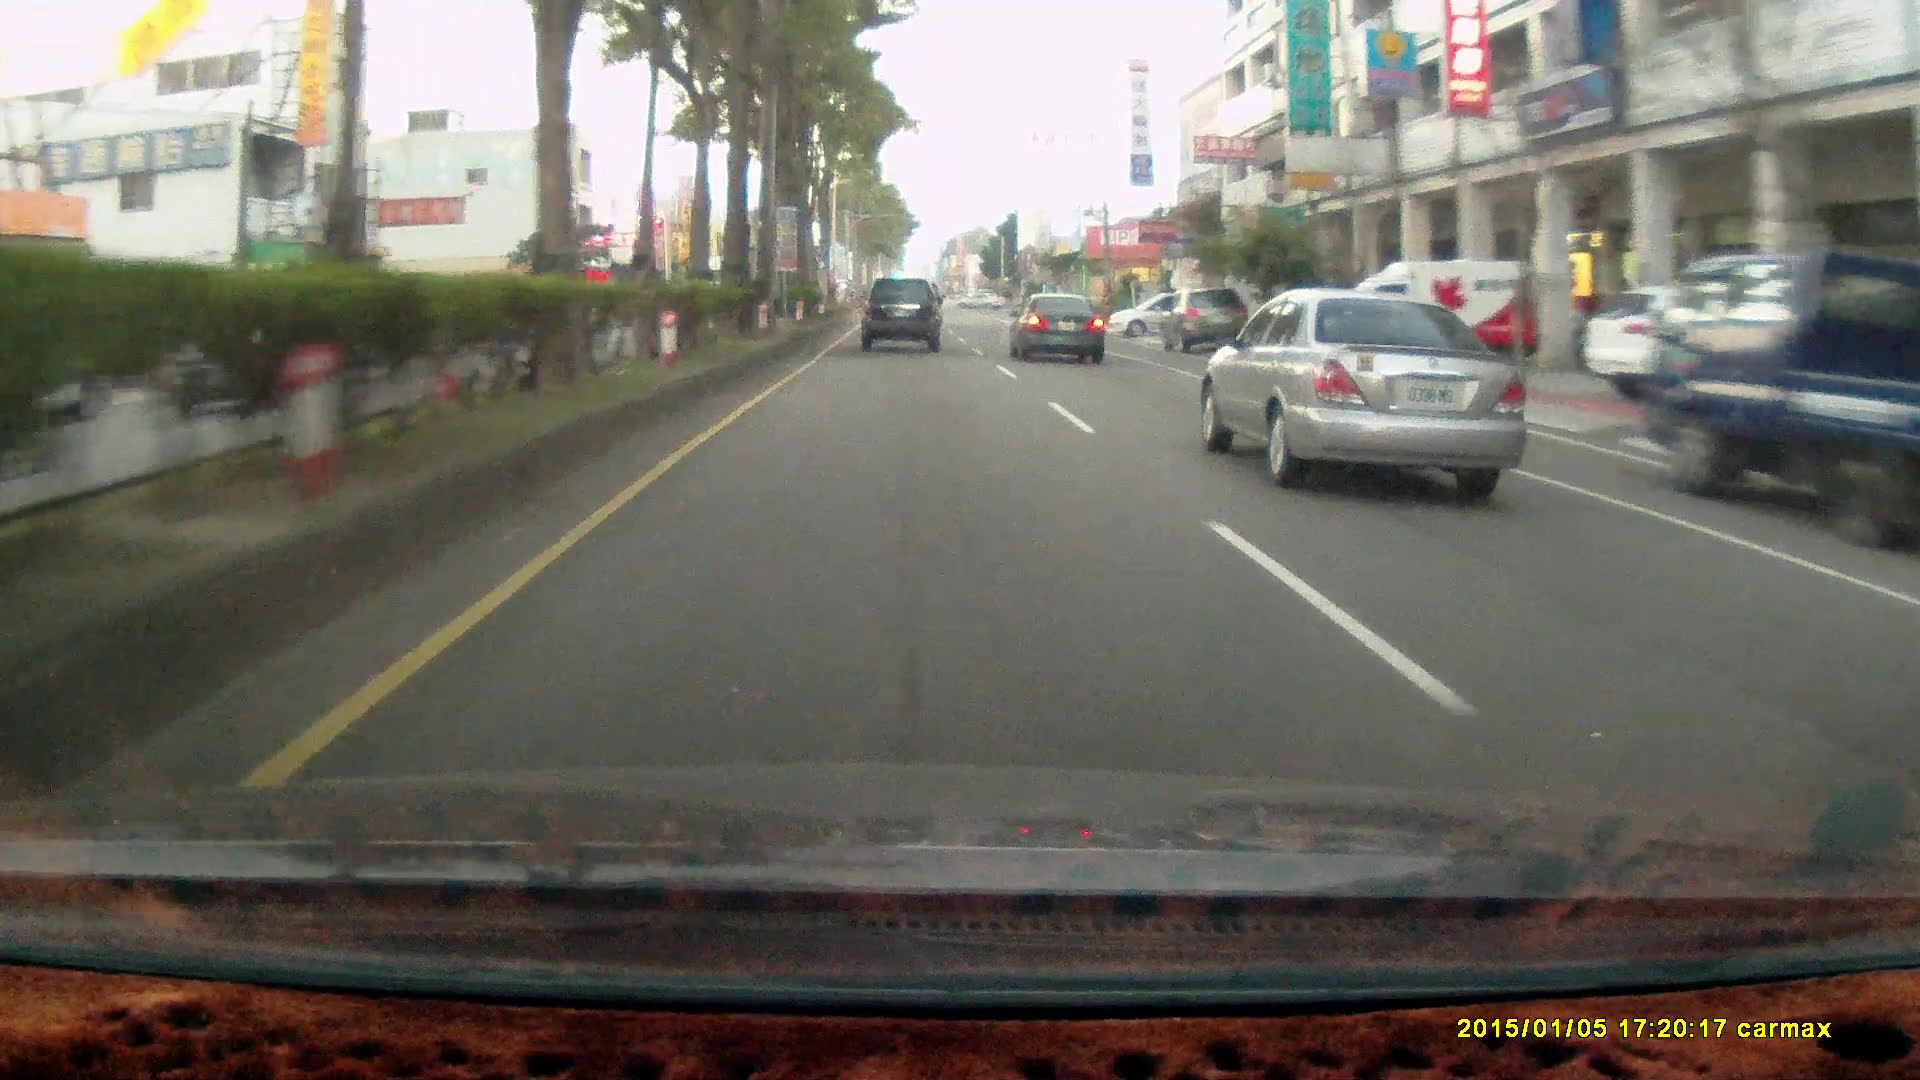vehicle: (1643, 251, 1920, 554), (1209, 289, 1536, 491), (1576, 280, 1804, 407), (1338, 256, 1540, 381), (1342, 256, 1538, 381), (1007, 289, 1109, 365), (1009, 287, 1105, 359), (858, 278, 945, 355), (858, 276, 940, 349), (1166, 289, 1251, 357), (1159, 287, 1247, 352)
